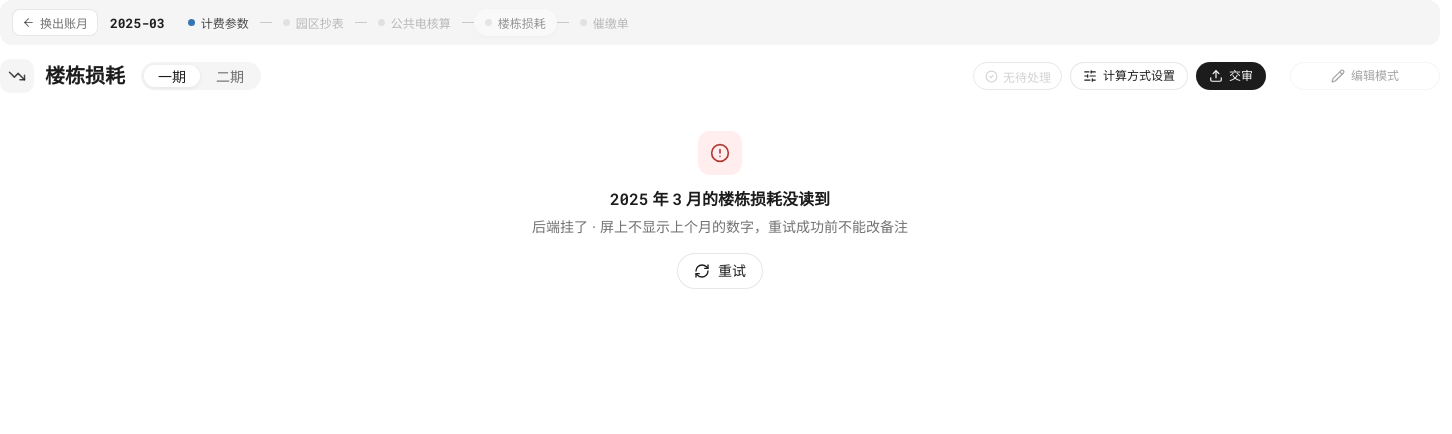
Test: 楼栋损耗 · 提示件(页面状态 / 空状态 / 加载失败 / 问题面板 / 回执 / 改动数) › ❗本月没读到:失败件换掉表格区,点「重试」重拉
Expected: the message with class "error" shows "2025 年 3 月的楼栋损耗没读到", [610,189,830,209]
Step 1. Click the button "重试" → [720, 271], box [677,253,763,289]
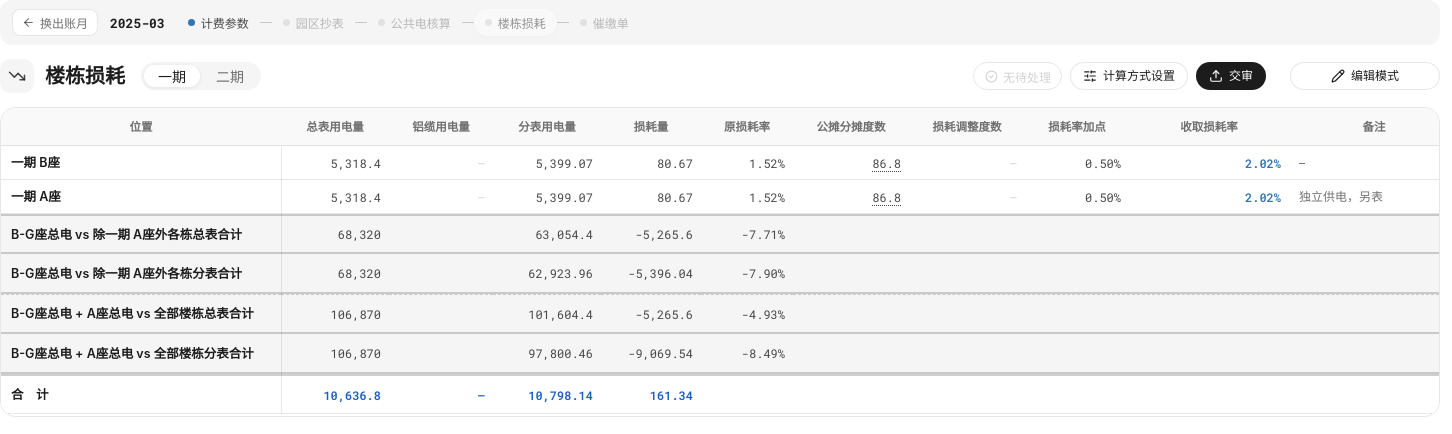
Expected: the table with class "ll-table" is shown
